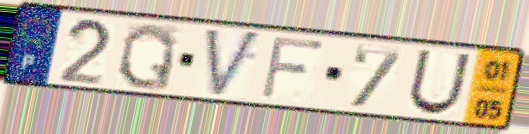2: (54, 16, 117, 87)
7: (349, 41, 406, 110)
F: (257, 34, 328, 102)
Q: (114, 21, 180, 93)
U: (405, 47, 475, 117)
V: (203, 26, 265, 101)
